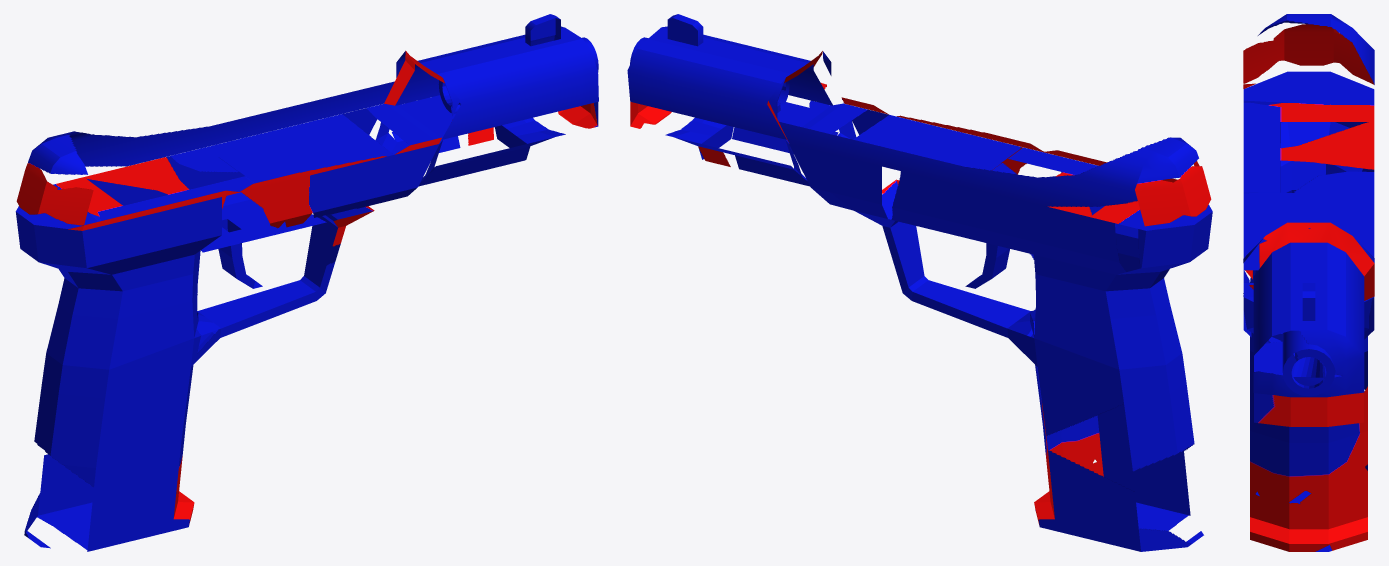
File: Pistol.fbx
3 renders of one model, left to right at view 1: azimuth 30°, elevation 25°; view 2: azimuth 150°, elevation 25°; view 3: azimuth 270°, elevation 25°, orthographic. The views are drawn at different scales.
Visible parts, largest first — view 1: pCube4, pCube3; view 2: pCube4, pCube3; view 3: pCube4, pCube3, pCylinder1.
Boxes of the visible parts, x1,y1,x2,y2 form: pCube4: [15, 95, 598, 551]; pCube3: [16, 14, 598, 230]; pCube4: [630, 100, 1212, 551]; pCube3: [627, 14, 1211, 226]; pCube4: [1243, 71, 1374, 551]; pCube3: [1243, 14, 1374, 397]; pCylinder1: [1282, 330, 1335, 396].
Size of the model in its own units: 20.62 by 13.93 by 3.49.
